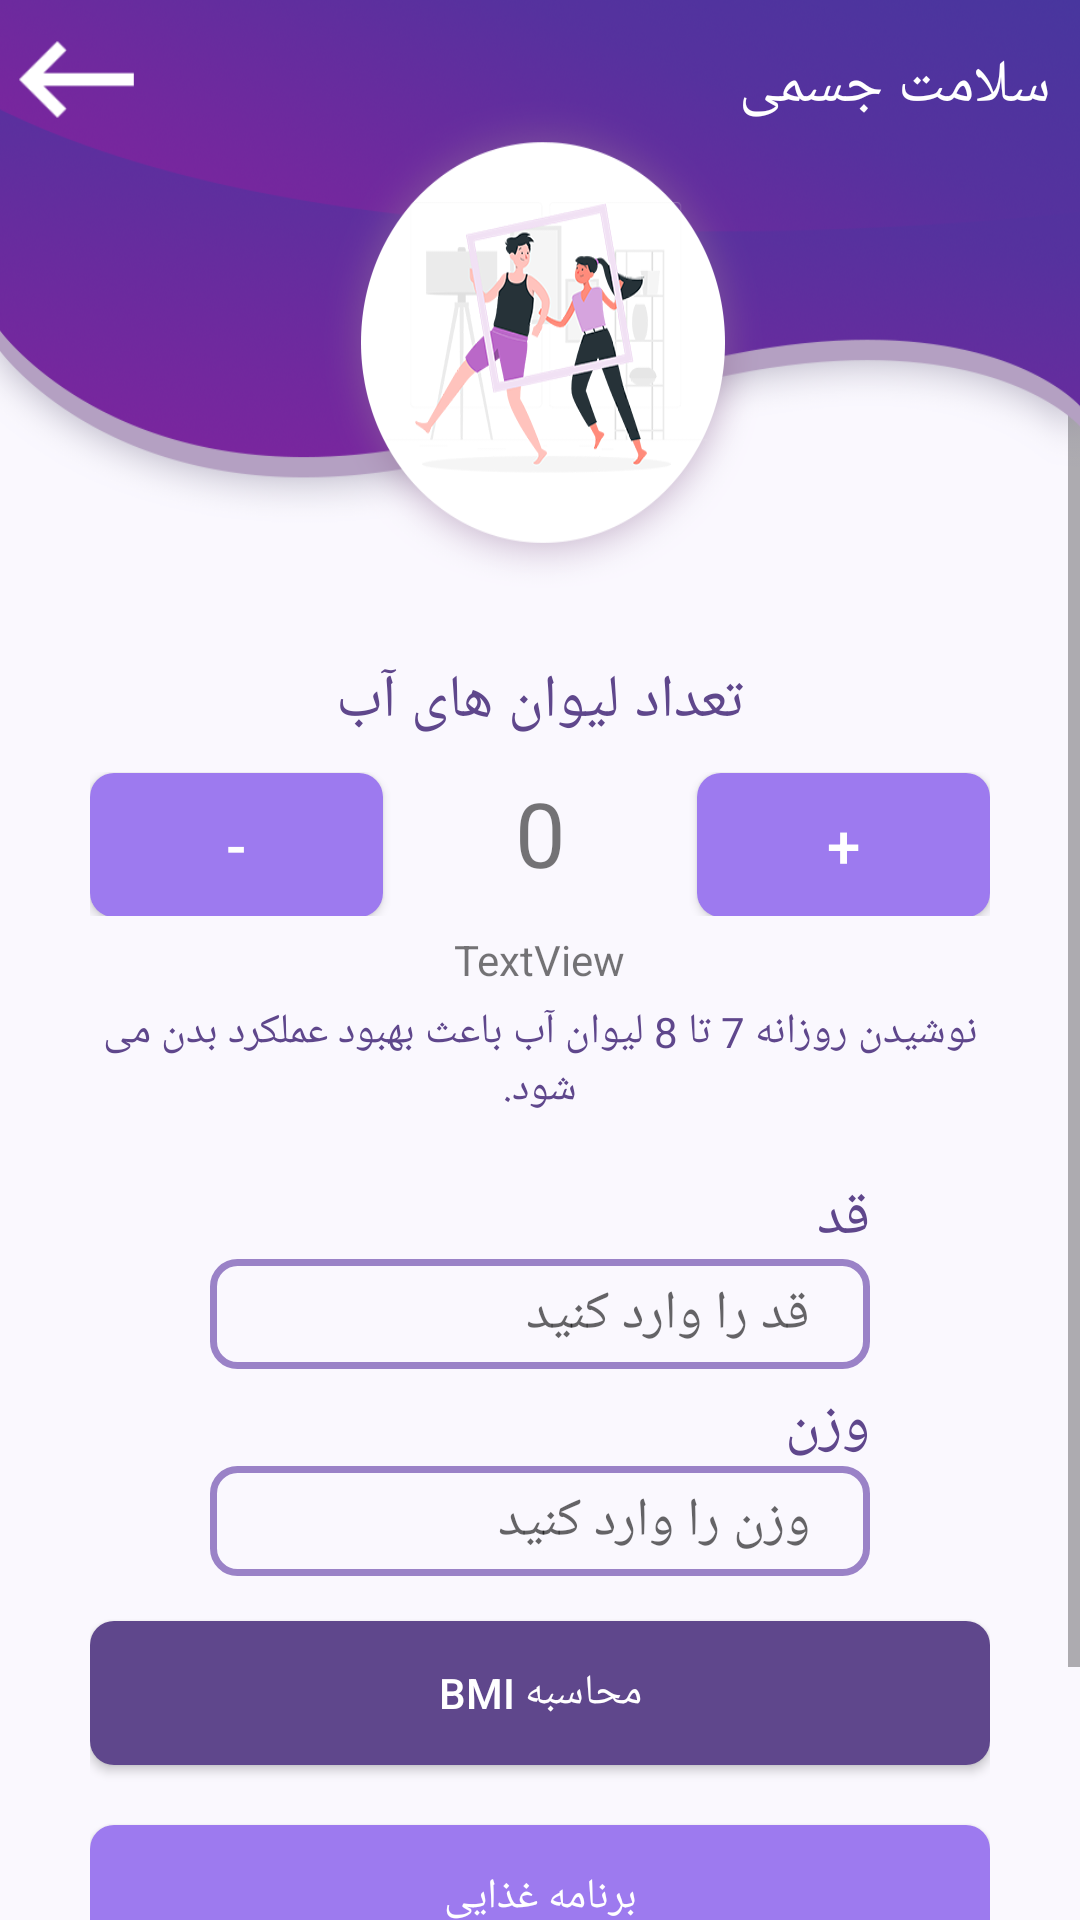

Named icons in this screenshot (1080px x 1920px) and their bounding boxes, [x1,y1,x2,y2]:
back: [19,41,134,118]
